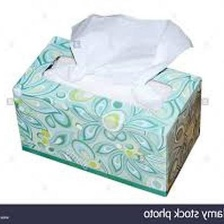book: (7, 30, 208, 201)
tissue: (63, 9, 198, 91)
